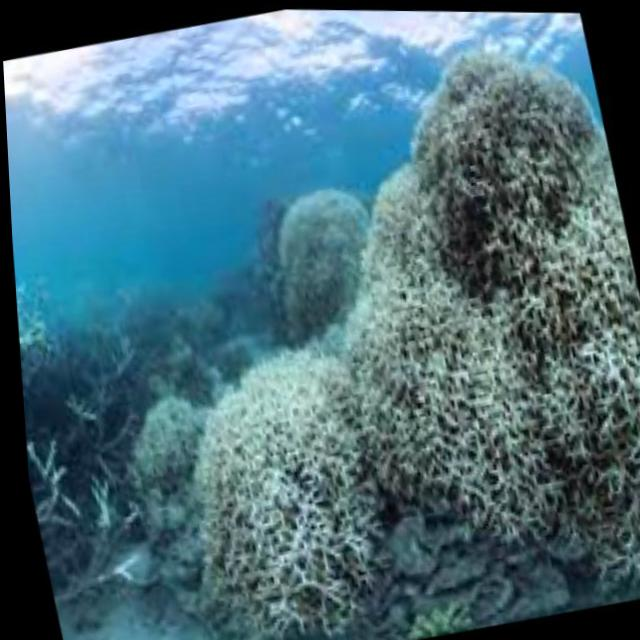Dead Coral: (9, 220, 204, 618), (372, 7, 640, 296), (211, 126, 401, 343)
